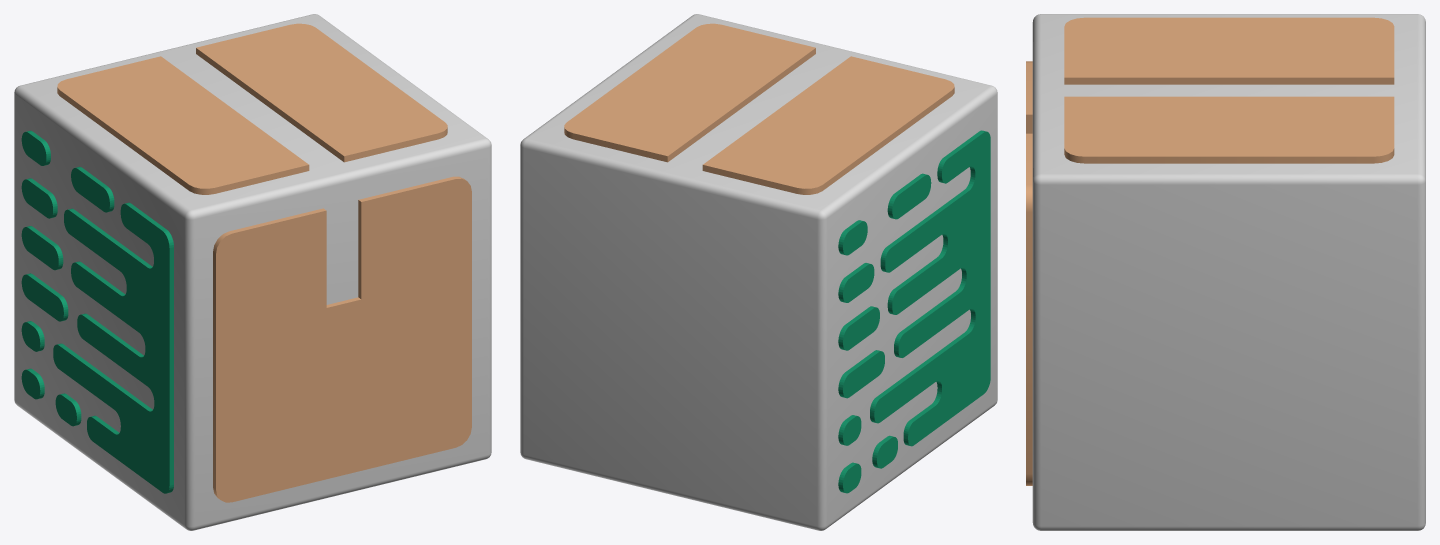
The model's file is nymphsRegenBoxforBrowser.gltf.
3 renders of one model, left to right at view 1: azimuth 30°, elevation 25°; view 2: azimuth 150°, elevation 25°; view 3: azimuth 270°, elevation 25°, orthographic. The views are drawn at different scales.
Visible parts, largest first — view 1: Cube, Plane.003, Plane.001, Plane.021; view 2: Cube, Plane.001, Plane.021; view 3: Cube, Plane.001, Plane.003.
Boxes of the visible parts, <box> form: Cube: <box>14,14,491,530</box>; Plane.003: <box>213,176,471,502</box>; Plane.001: <box>57,23,447,194</box>; Plane.021: <box>21,130,173,493</box>; Cube: <box>520,14,997,530</box>; Plane.001: <box>564,23,954,194</box>; Plane.021: <box>838,130,990,493</box>; Cube: <box>1032,14,1425,530</box>; Plane.001: <box>1064,17,1394,163</box>; Plane.003: <box>1026,61,1032,485</box>.
Size of the model in its own units: 2.03 by 2.04 by 2.03.
